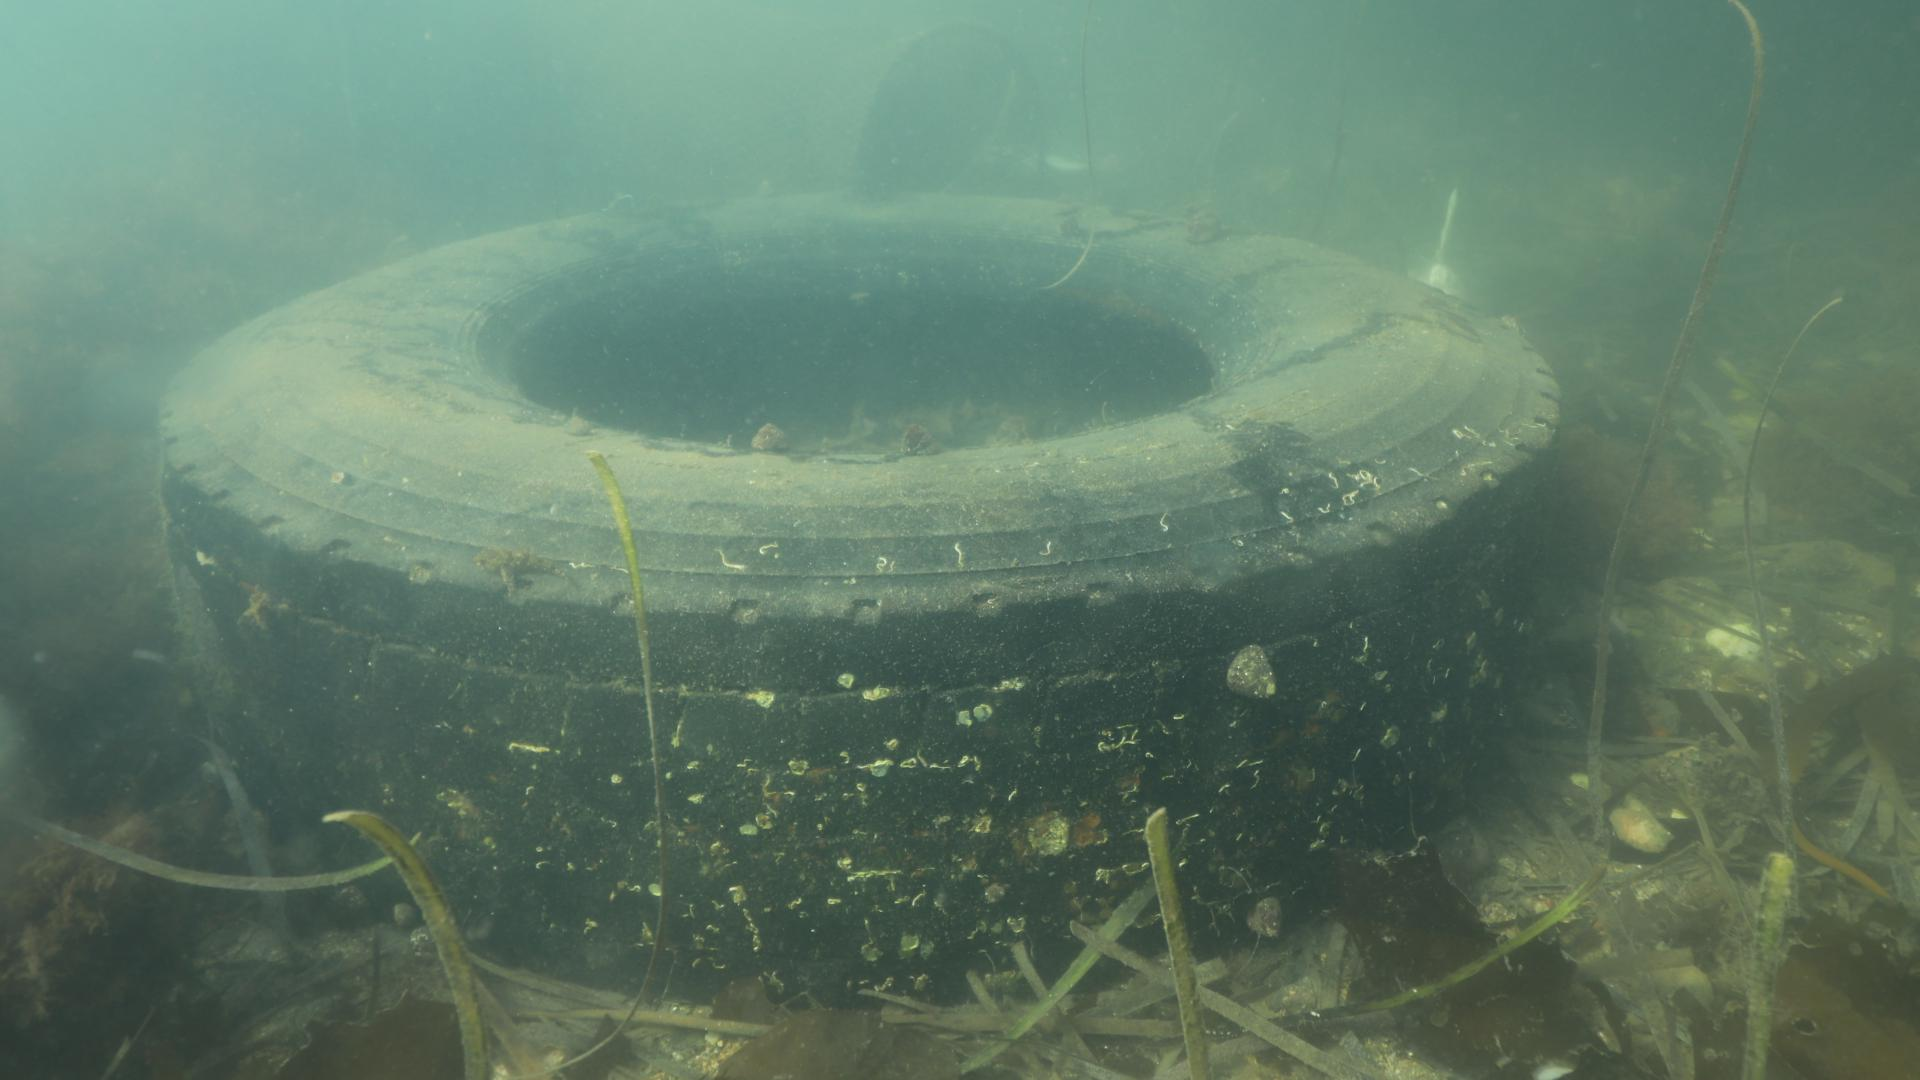tire: (160, 189, 1564, 1009)
